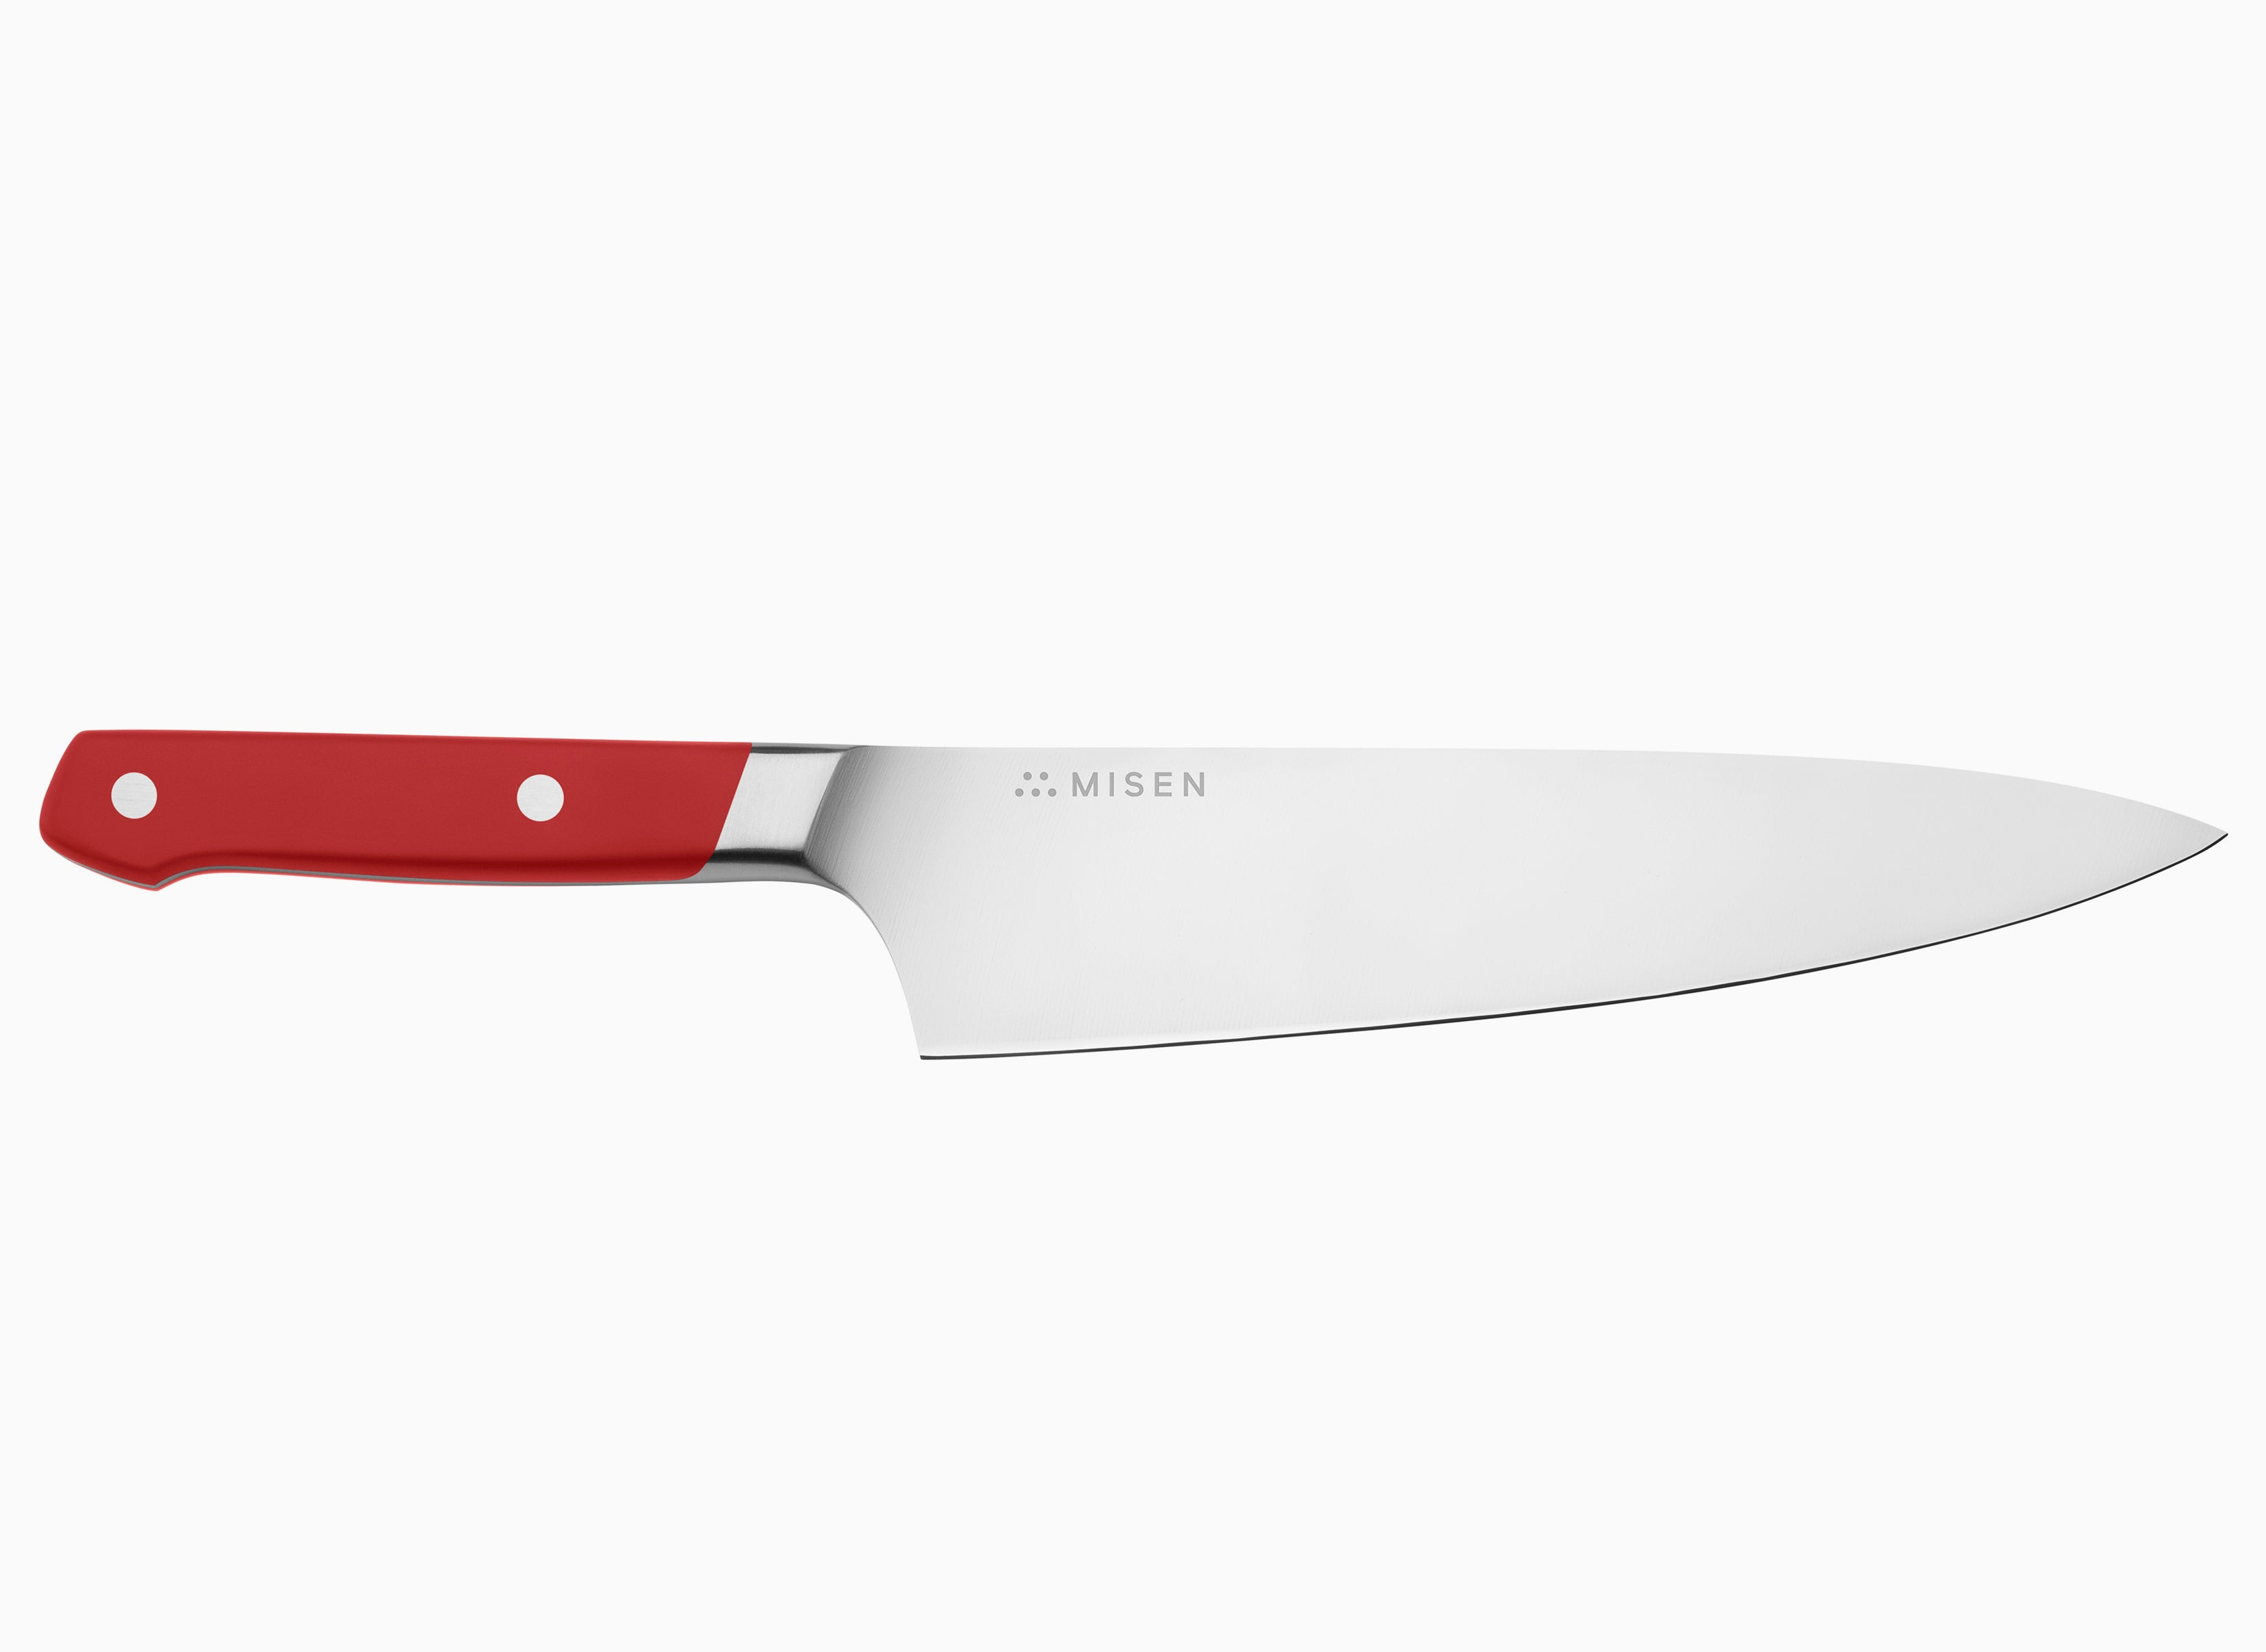knife: (25, 607, 2241, 1107)
